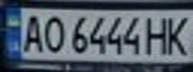4: (121, 12, 145, 55), (103, 12, 127, 55), (87, 12, 109, 54)
6: (66, 12, 90, 54)
A: (18, 11, 48, 54)
H: (142, 14, 172, 56)
K: (163, 12, 193, 56)
O: (39, 12, 66, 54)
